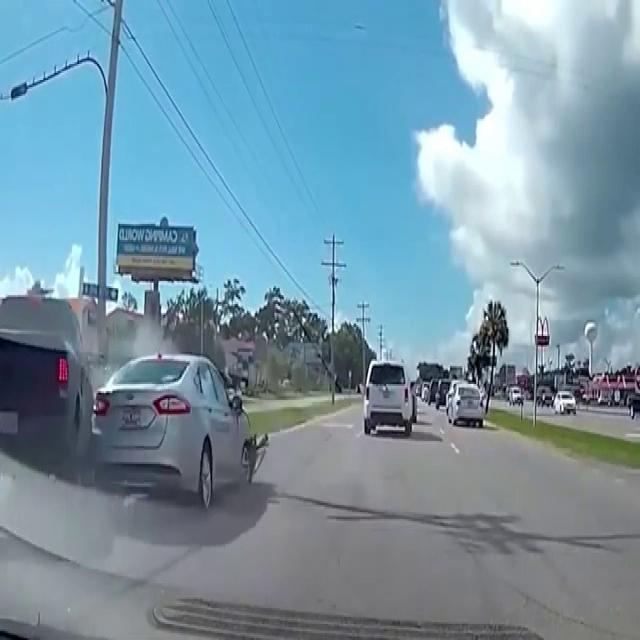accident: (0, 279, 269, 518)
